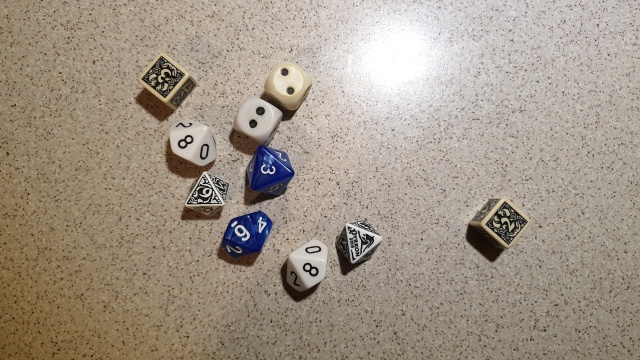d10-3: (235, 141, 298, 200)
d10-6: (217, 208, 275, 262)
d10-8: (274, 233, 333, 302), (161, 113, 220, 170)
d6-2: (260, 57, 313, 108), (230, 97, 283, 142)
d6p-2: (467, 194, 531, 253)
d6p-3: (133, 53, 199, 113)
d8p-1: (333, 214, 383, 270)
d8p-6: (180, 171, 230, 218)
